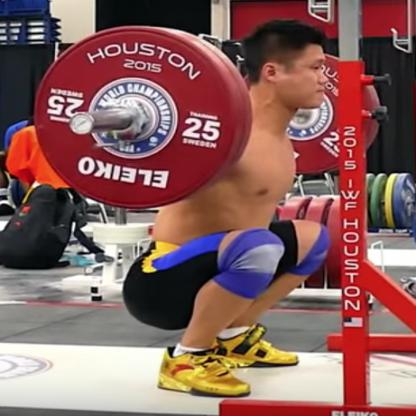Barbell: (26, 24, 260, 212)
